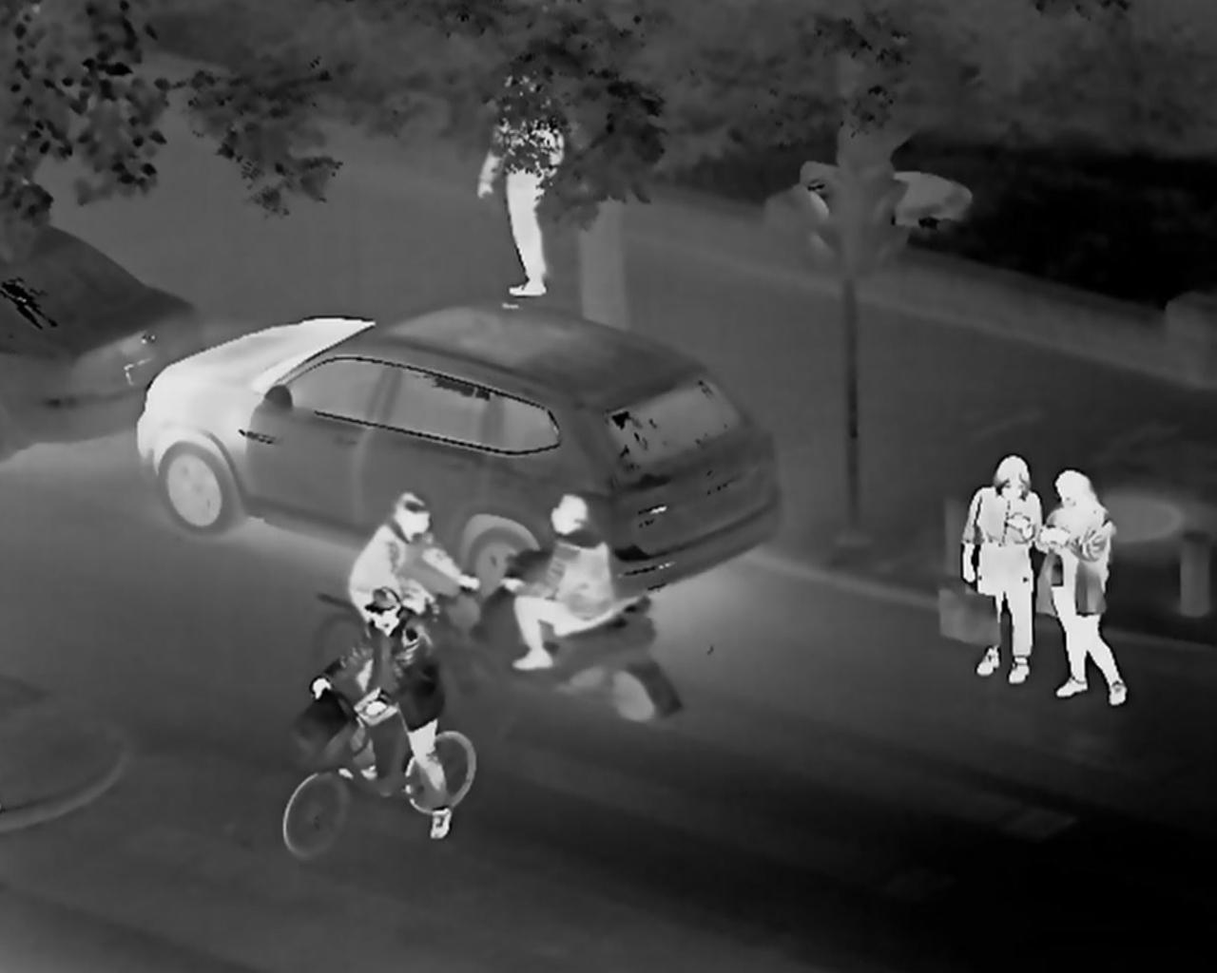person: (345, 587, 481, 803), (1039, 420, 1111, 721), (970, 408, 1031, 697), (493, 63, 558, 296), (525, 495, 632, 627), (356, 490, 448, 571)
